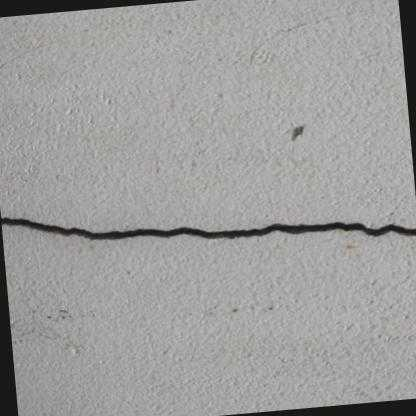crack: (0, 216, 416, 241)
